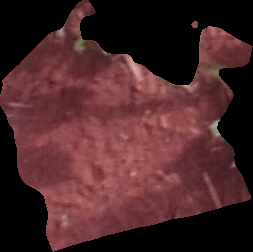soil: (3, 3, 251, 250)
